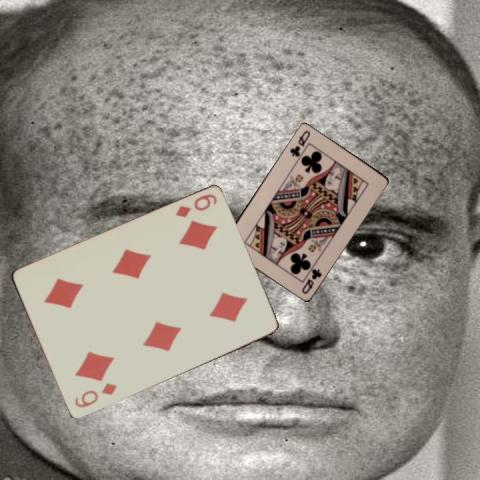6d: (71, 380, 119, 409), (171, 192, 219, 220)
Qc: (287, 127, 311, 158), (299, 266, 323, 296)
